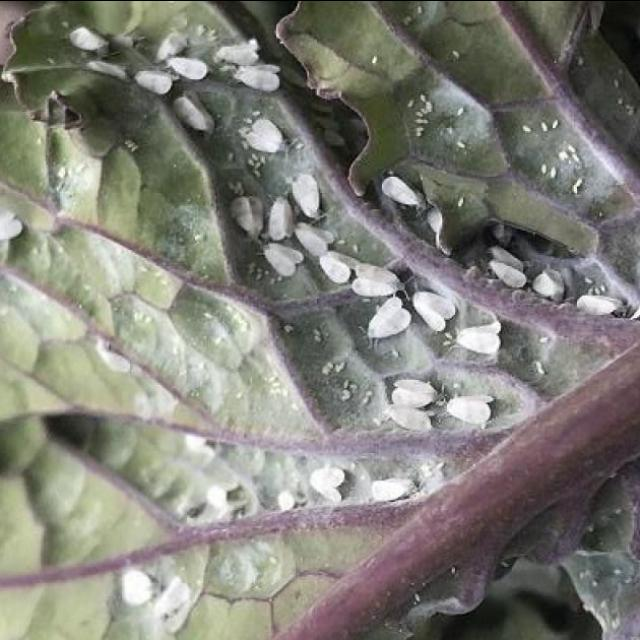Whitefly: (48, 8, 525, 457), (364, 158, 640, 327), (281, 459, 357, 508)
